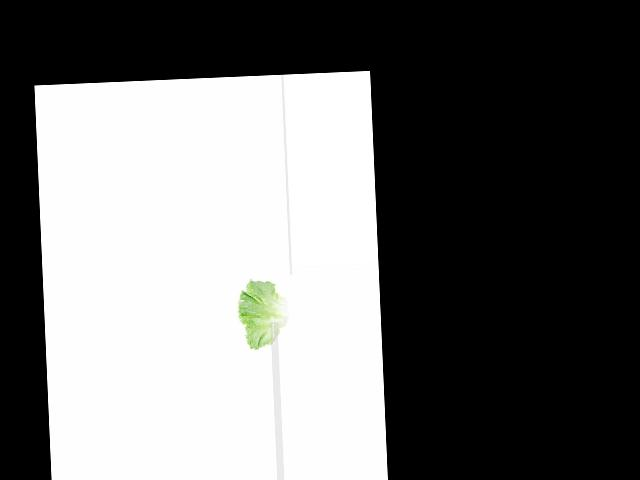lettuce: (237, 278, 291, 347)
